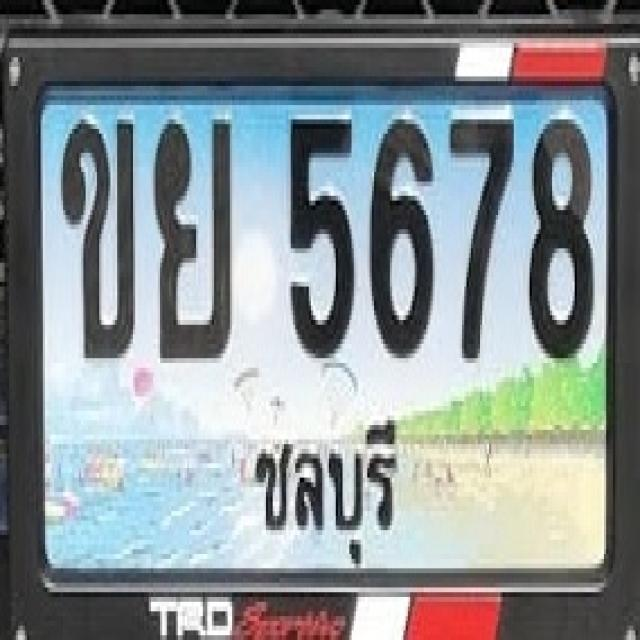license_plate: (2, 24, 640, 640)
